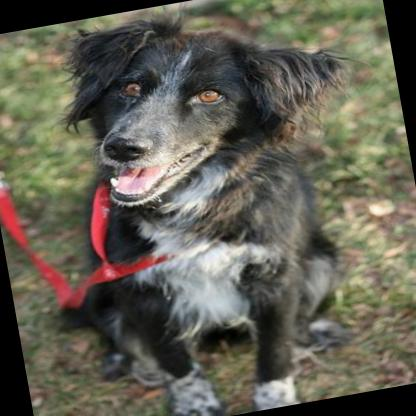Border_collie: (6, 0, 409, 416)
